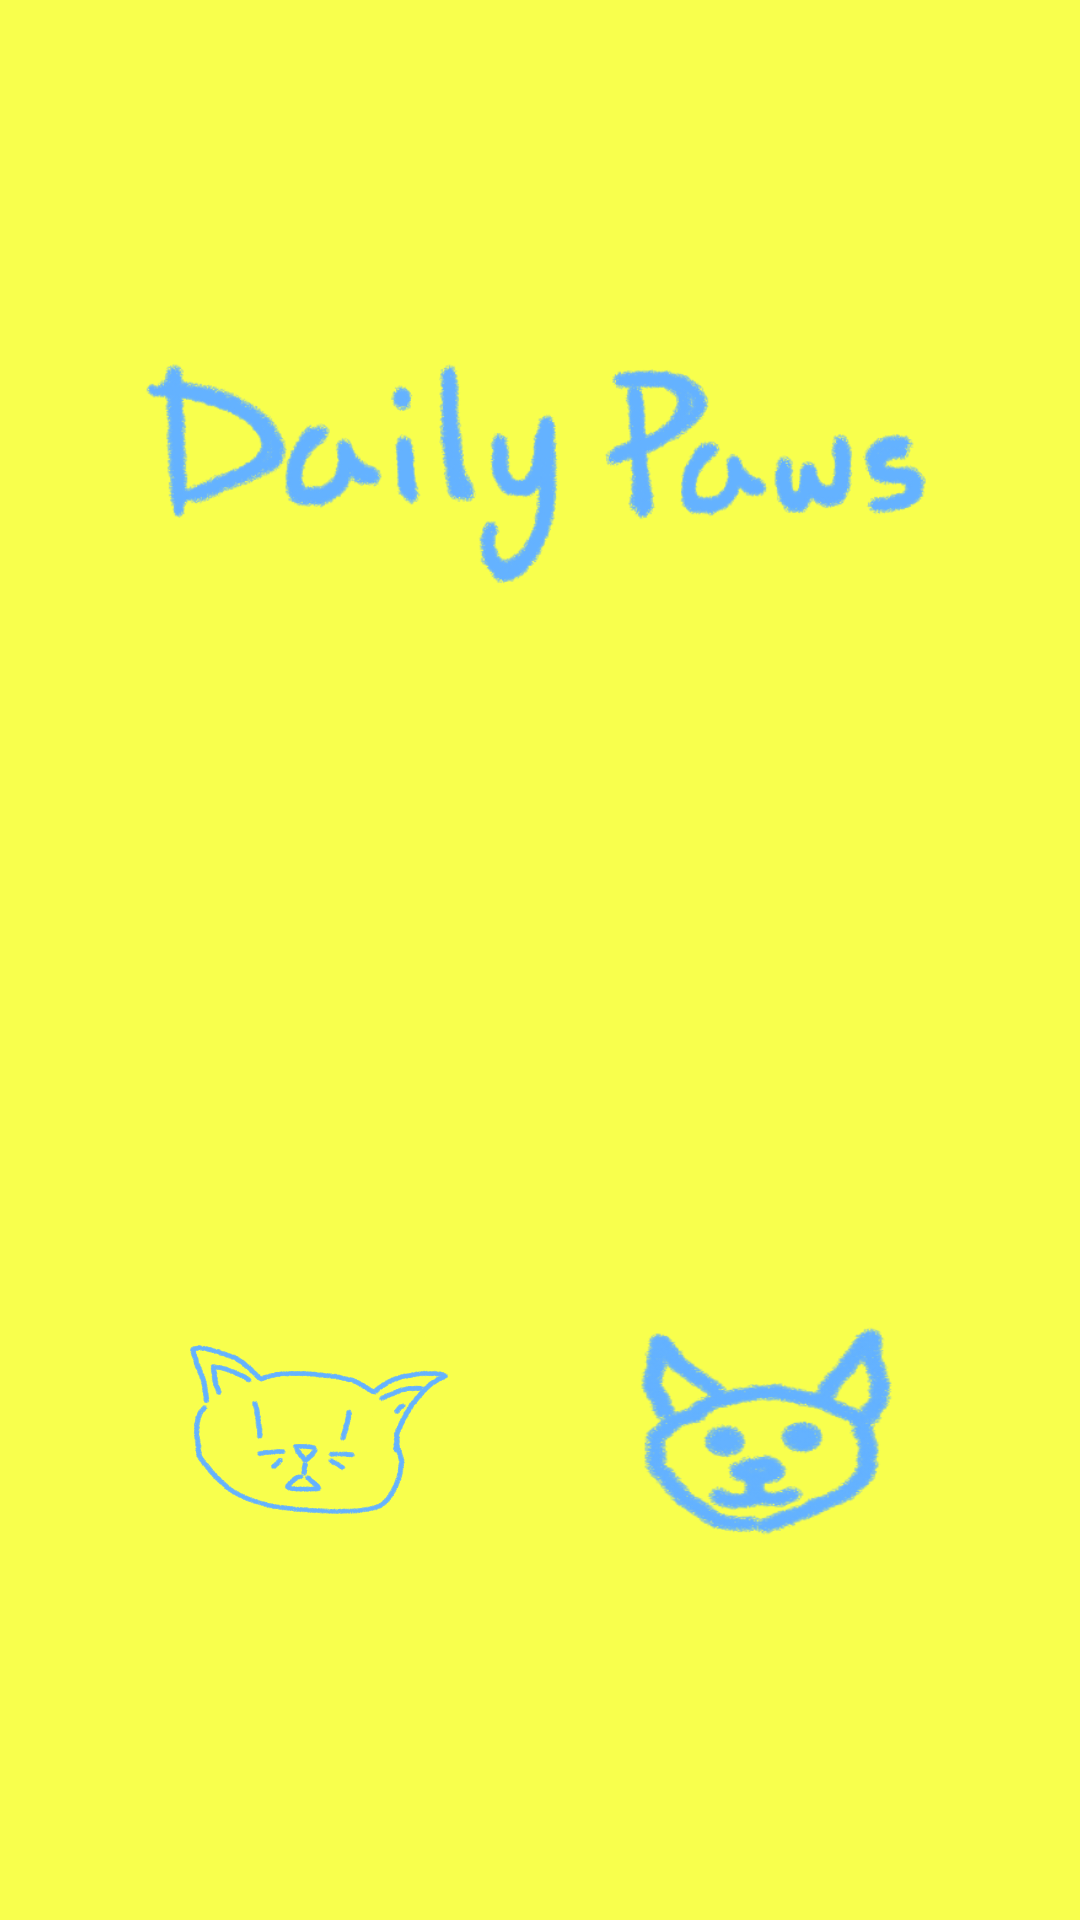

Named icons in this screenshot (1080x1920) and their centers, (x=x, y=y):
cat: (x=319, y=1429)
dog: (x=766, y=1431)
